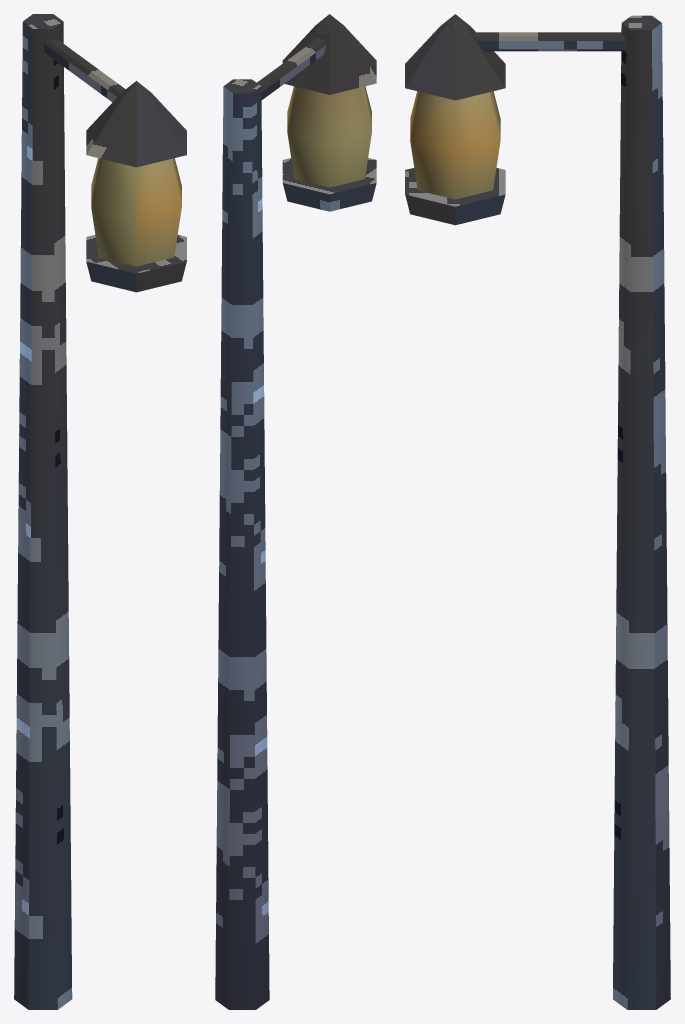
File: wprop.lantern__post.glb
The picture shows the model from 3 angles, left to right: view 1: azimuth 30°, elevation 25°; view 2: azimuth 150°, elevation 25°; view 3: azimuth 270°, elevation 25°; orthographic projection. The views are drawn at different scales.
Visible parts, largest first — view 1: kit_post, kit_glass, kit_cap, kit_base, kit_arm; view 2: kit_post, kit_glass, kit_cap, kit_base, kit_arm; view 3: kit_post, kit_glass, kit_cap, kit_base, kit_arm.
Part boxes in pixels (bbox=[...]): kit_post: bbox=[14, 14, 72, 1009]; kit_glass: bbox=[91, 158, 181, 266]; kit_cap: bbox=[86, 81, 186, 167]; kit_base: bbox=[86, 235, 186, 292]; kit_arm: bbox=[43, 38, 125, 102]; kit_post: bbox=[215, 79, 269, 1009]; kit_glass: bbox=[287, 86, 371, 187]; kit_cap: bbox=[282, 14, 376, 94]; kit_base: bbox=[282, 158, 376, 211]; kit_arm: bbox=[257, 38, 326, 99]; kit_post: bbox=[613, 15, 670, 1009]; kit_glass: bbox=[410, 91, 500, 199]; kit_cap: bbox=[405, 14, 505, 100]; kit_base: bbox=[405, 168, 505, 225]; kit_arm: bbox=[474, 32, 626, 51].
Size of the model in its own units: 0.28 by 2.62 by 0.6412.
Materials: 3 (2 with a texture image).
